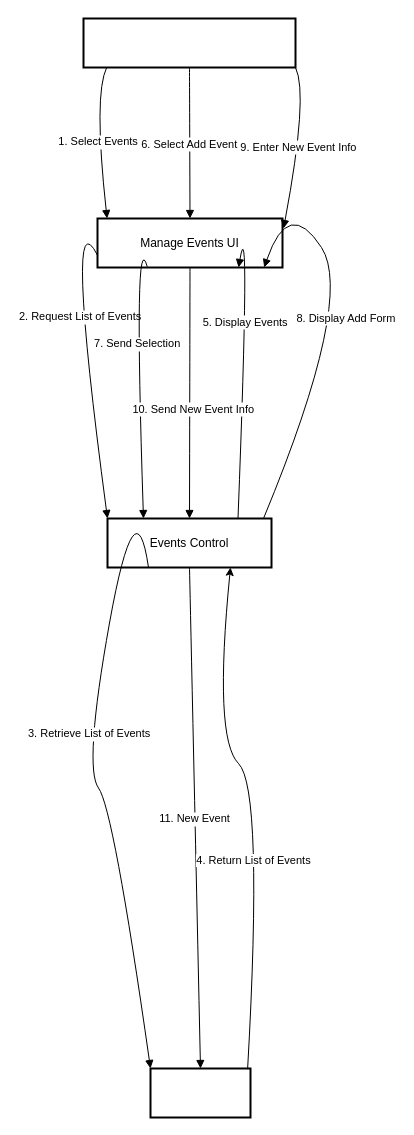
Image size: 414x1135. Some labels were removed from this diagram. The shapes that lost their labels are listed below. From the top down, each one's centre as x and y in pixels, then its label:
At pixel 189 42: "System Administrator".
At pixel 200 1092: "Event".
